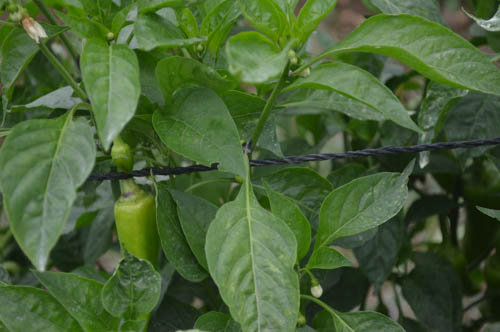ChiliPepper: (113, 193, 159, 280)
